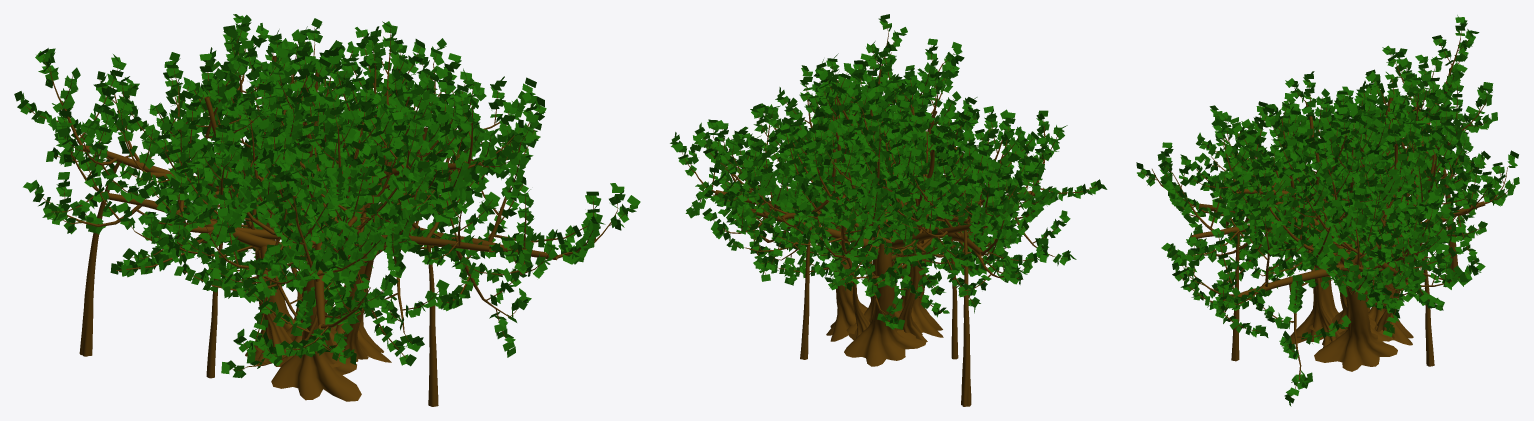
File: Big Tree.FBX
The picture shows the model from 3 angles, left to right: view 1: azimuth 30°, elevation 25°; view 2: azimuth 150°, elevation 25°; view 3: azimuth 270°, elevation 25°; orthographic projection. The views are drawn at different scales.
Visible parts, largest first — view 1: Big Tree; view 2: Big Tree; view 3: Big Tree.
Part boxes in pixels (box(x1,y1,x2,y2)): Big Tree: box(14, 14, 640, 406); Big Tree: box(670, 14, 1107, 406); Big Tree: box(1136, 15, 1519, 406).
Bounding box in the file's own units: 977 × 652 × 856.
